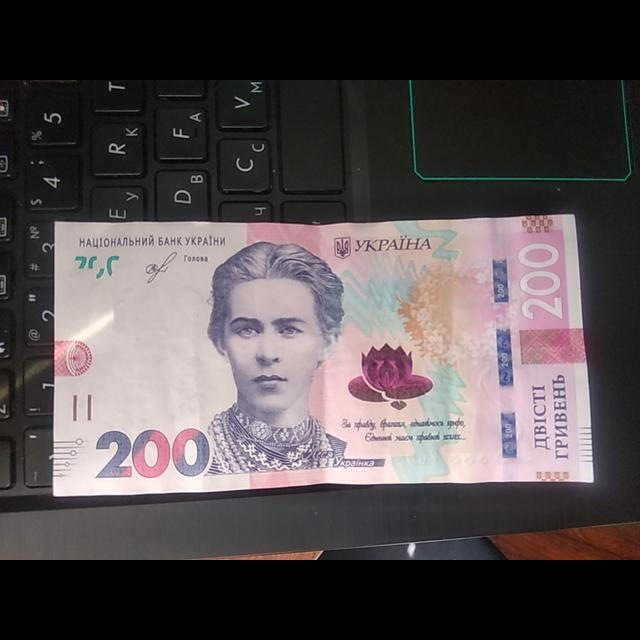200uah: (55, 214, 596, 496)
